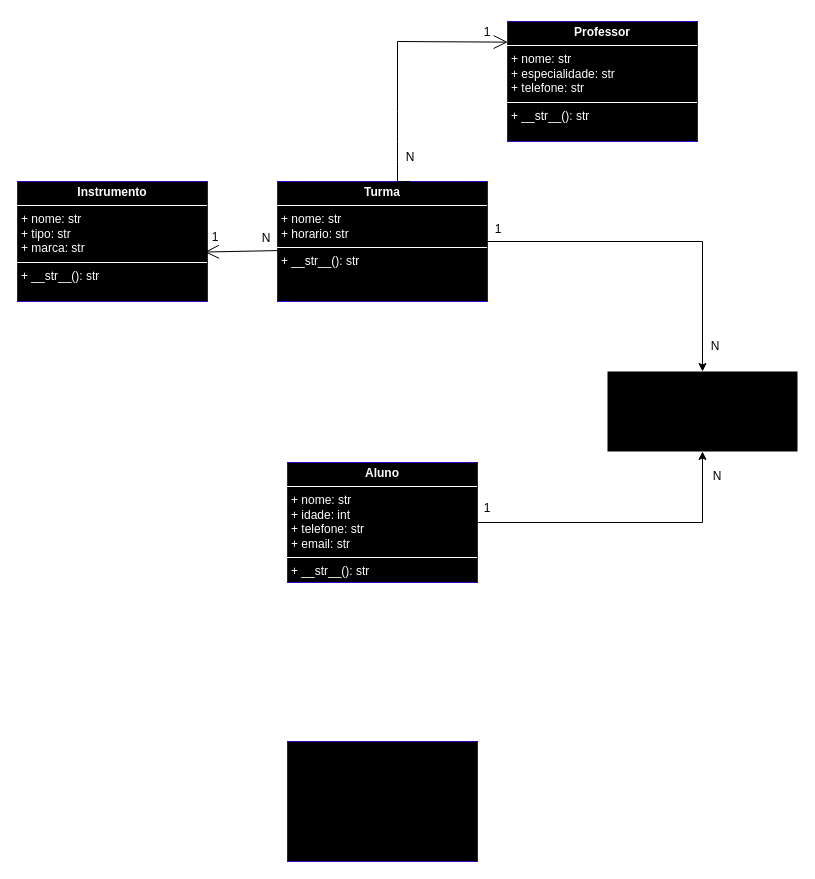
Some shapes in this 815 by 879 pixel diagram are drawn without their labels. The shapes that lost their labels are listed below. From the top down, each one's centre as x and y in pixels, then its label:
At pixel 702 411: "Matricula + data_matricula: date + __str__(): str".
At pixel 382 801: "Usuario + username: str + password: str + is_superuser: bool + __str__(): str".
